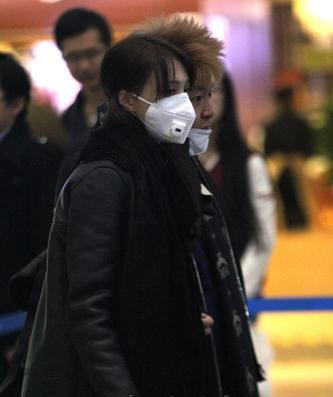NONE: (64, 42, 110, 92)
OK: (133, 74, 197, 146)
WRONG: (170, 73, 218, 146)
